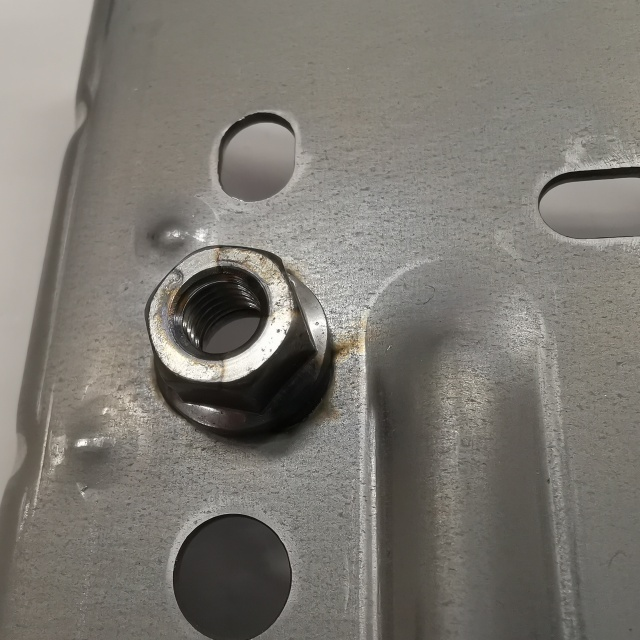dog: (137, 240, 335, 443)
